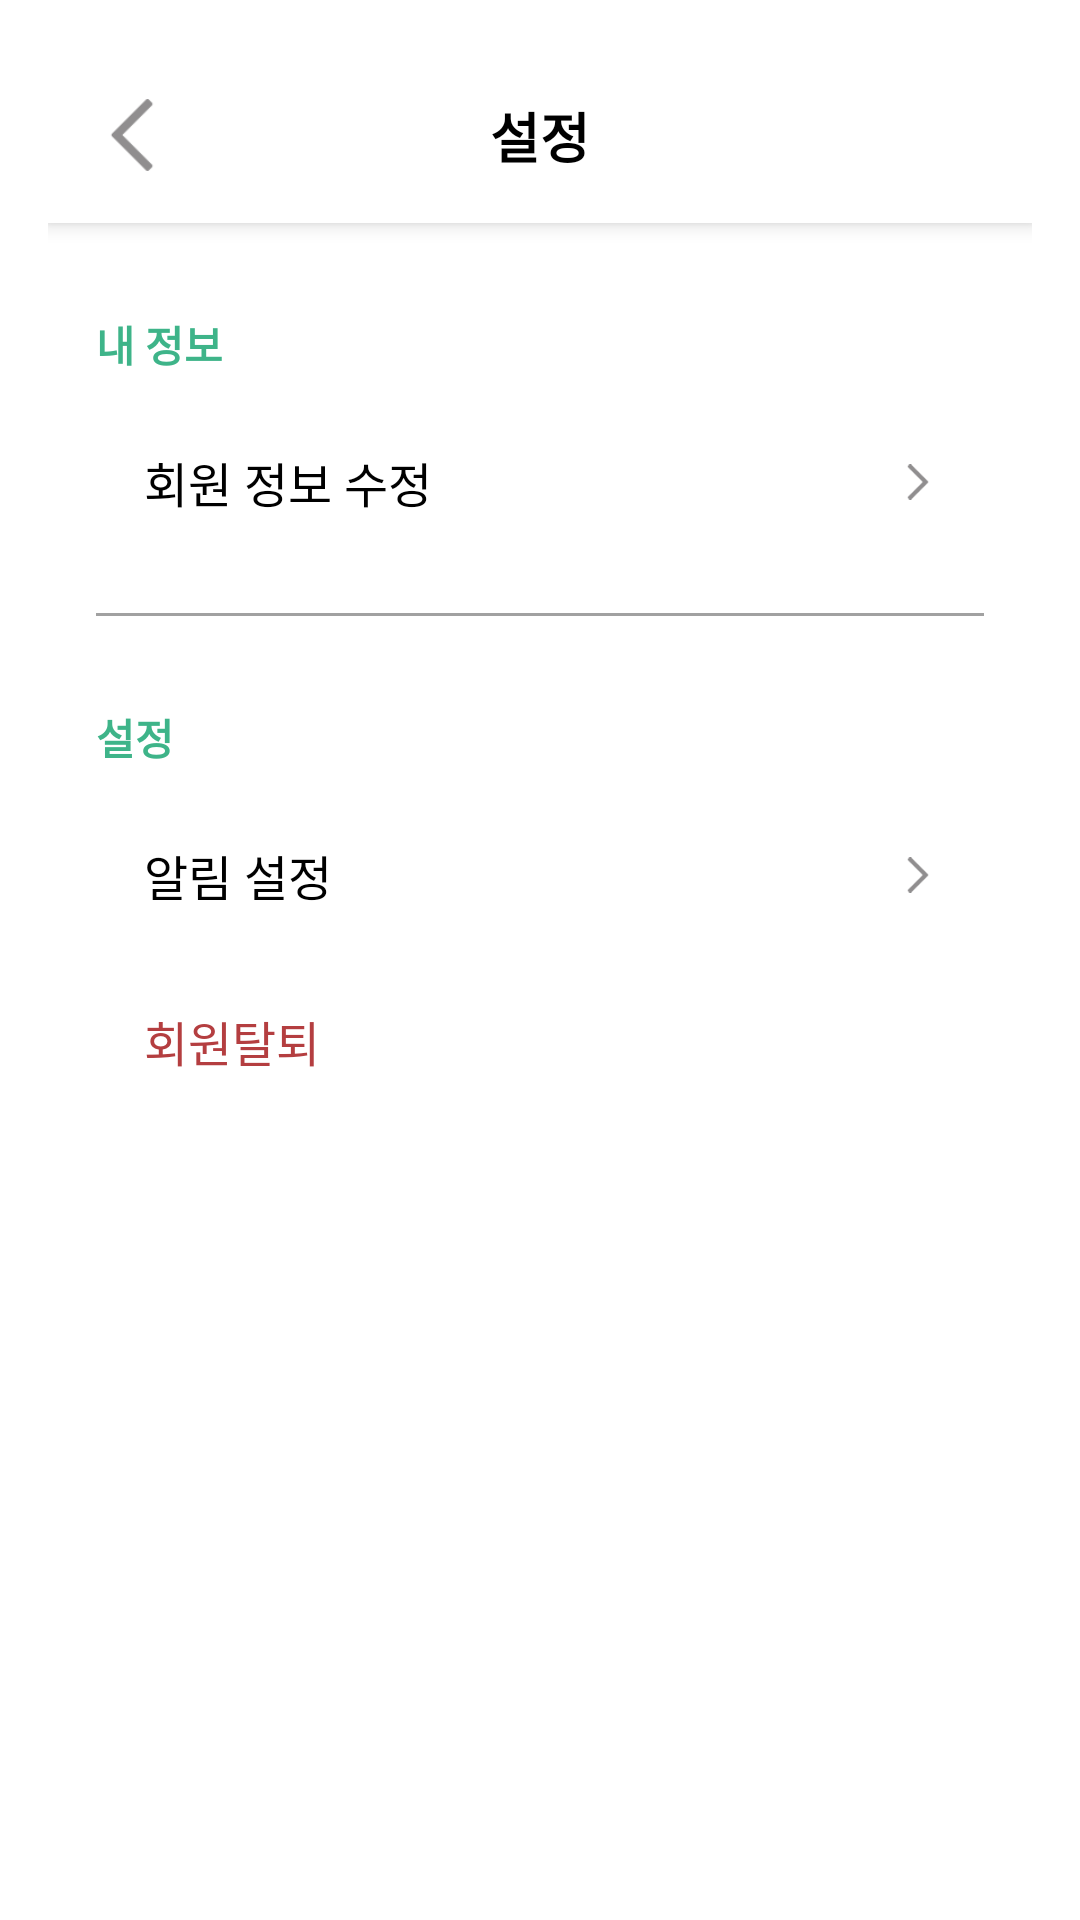

Icon click points for this 1080px×1920px phone screenshot, format (x=x, y=y):
Arrow: (x=917, y=482), (x=917, y=875)
Back: (x=132, y=135)
